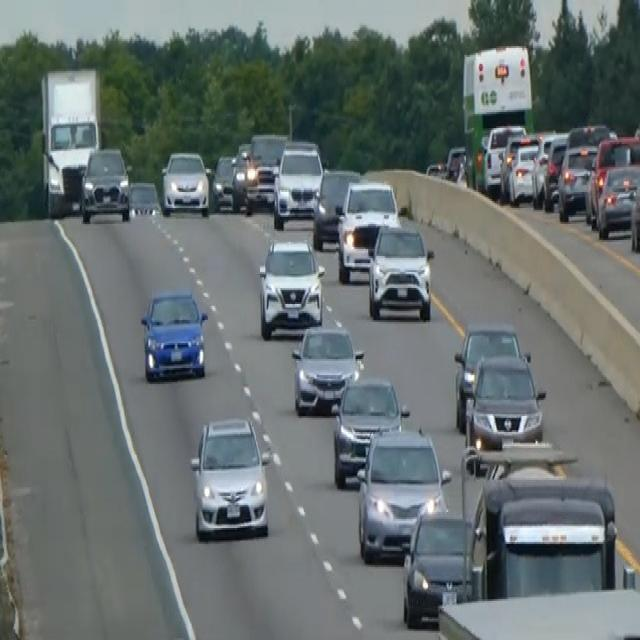car: (355, 425, 450, 562), (401, 505, 475, 627), (331, 375, 409, 487), (464, 350, 546, 452), (453, 320, 527, 428), (291, 322, 364, 416), (366, 220, 433, 322), (335, 178, 399, 282), (139, 286, 208, 382), (272, 138, 323, 228), (79, 144, 130, 222), (312, 167, 360, 249), (160, 147, 210, 217), (245, 130, 287, 210), (596, 160, 639, 238), (557, 140, 598, 220), (481, 122, 525, 194), (506, 133, 540, 204), (543, 133, 568, 210), (531, 132, 556, 208), (231, 144, 257, 212), (211, 153, 237, 211), (127, 178, 161, 218), (629, 165, 639, 252), (444, 144, 466, 181)
jeep: (256, 236, 326, 340)
lorry: (470, 473, 617, 599), (435, 585, 639, 638), (38, 64, 102, 217)
minivan: (188, 411, 272, 542)
